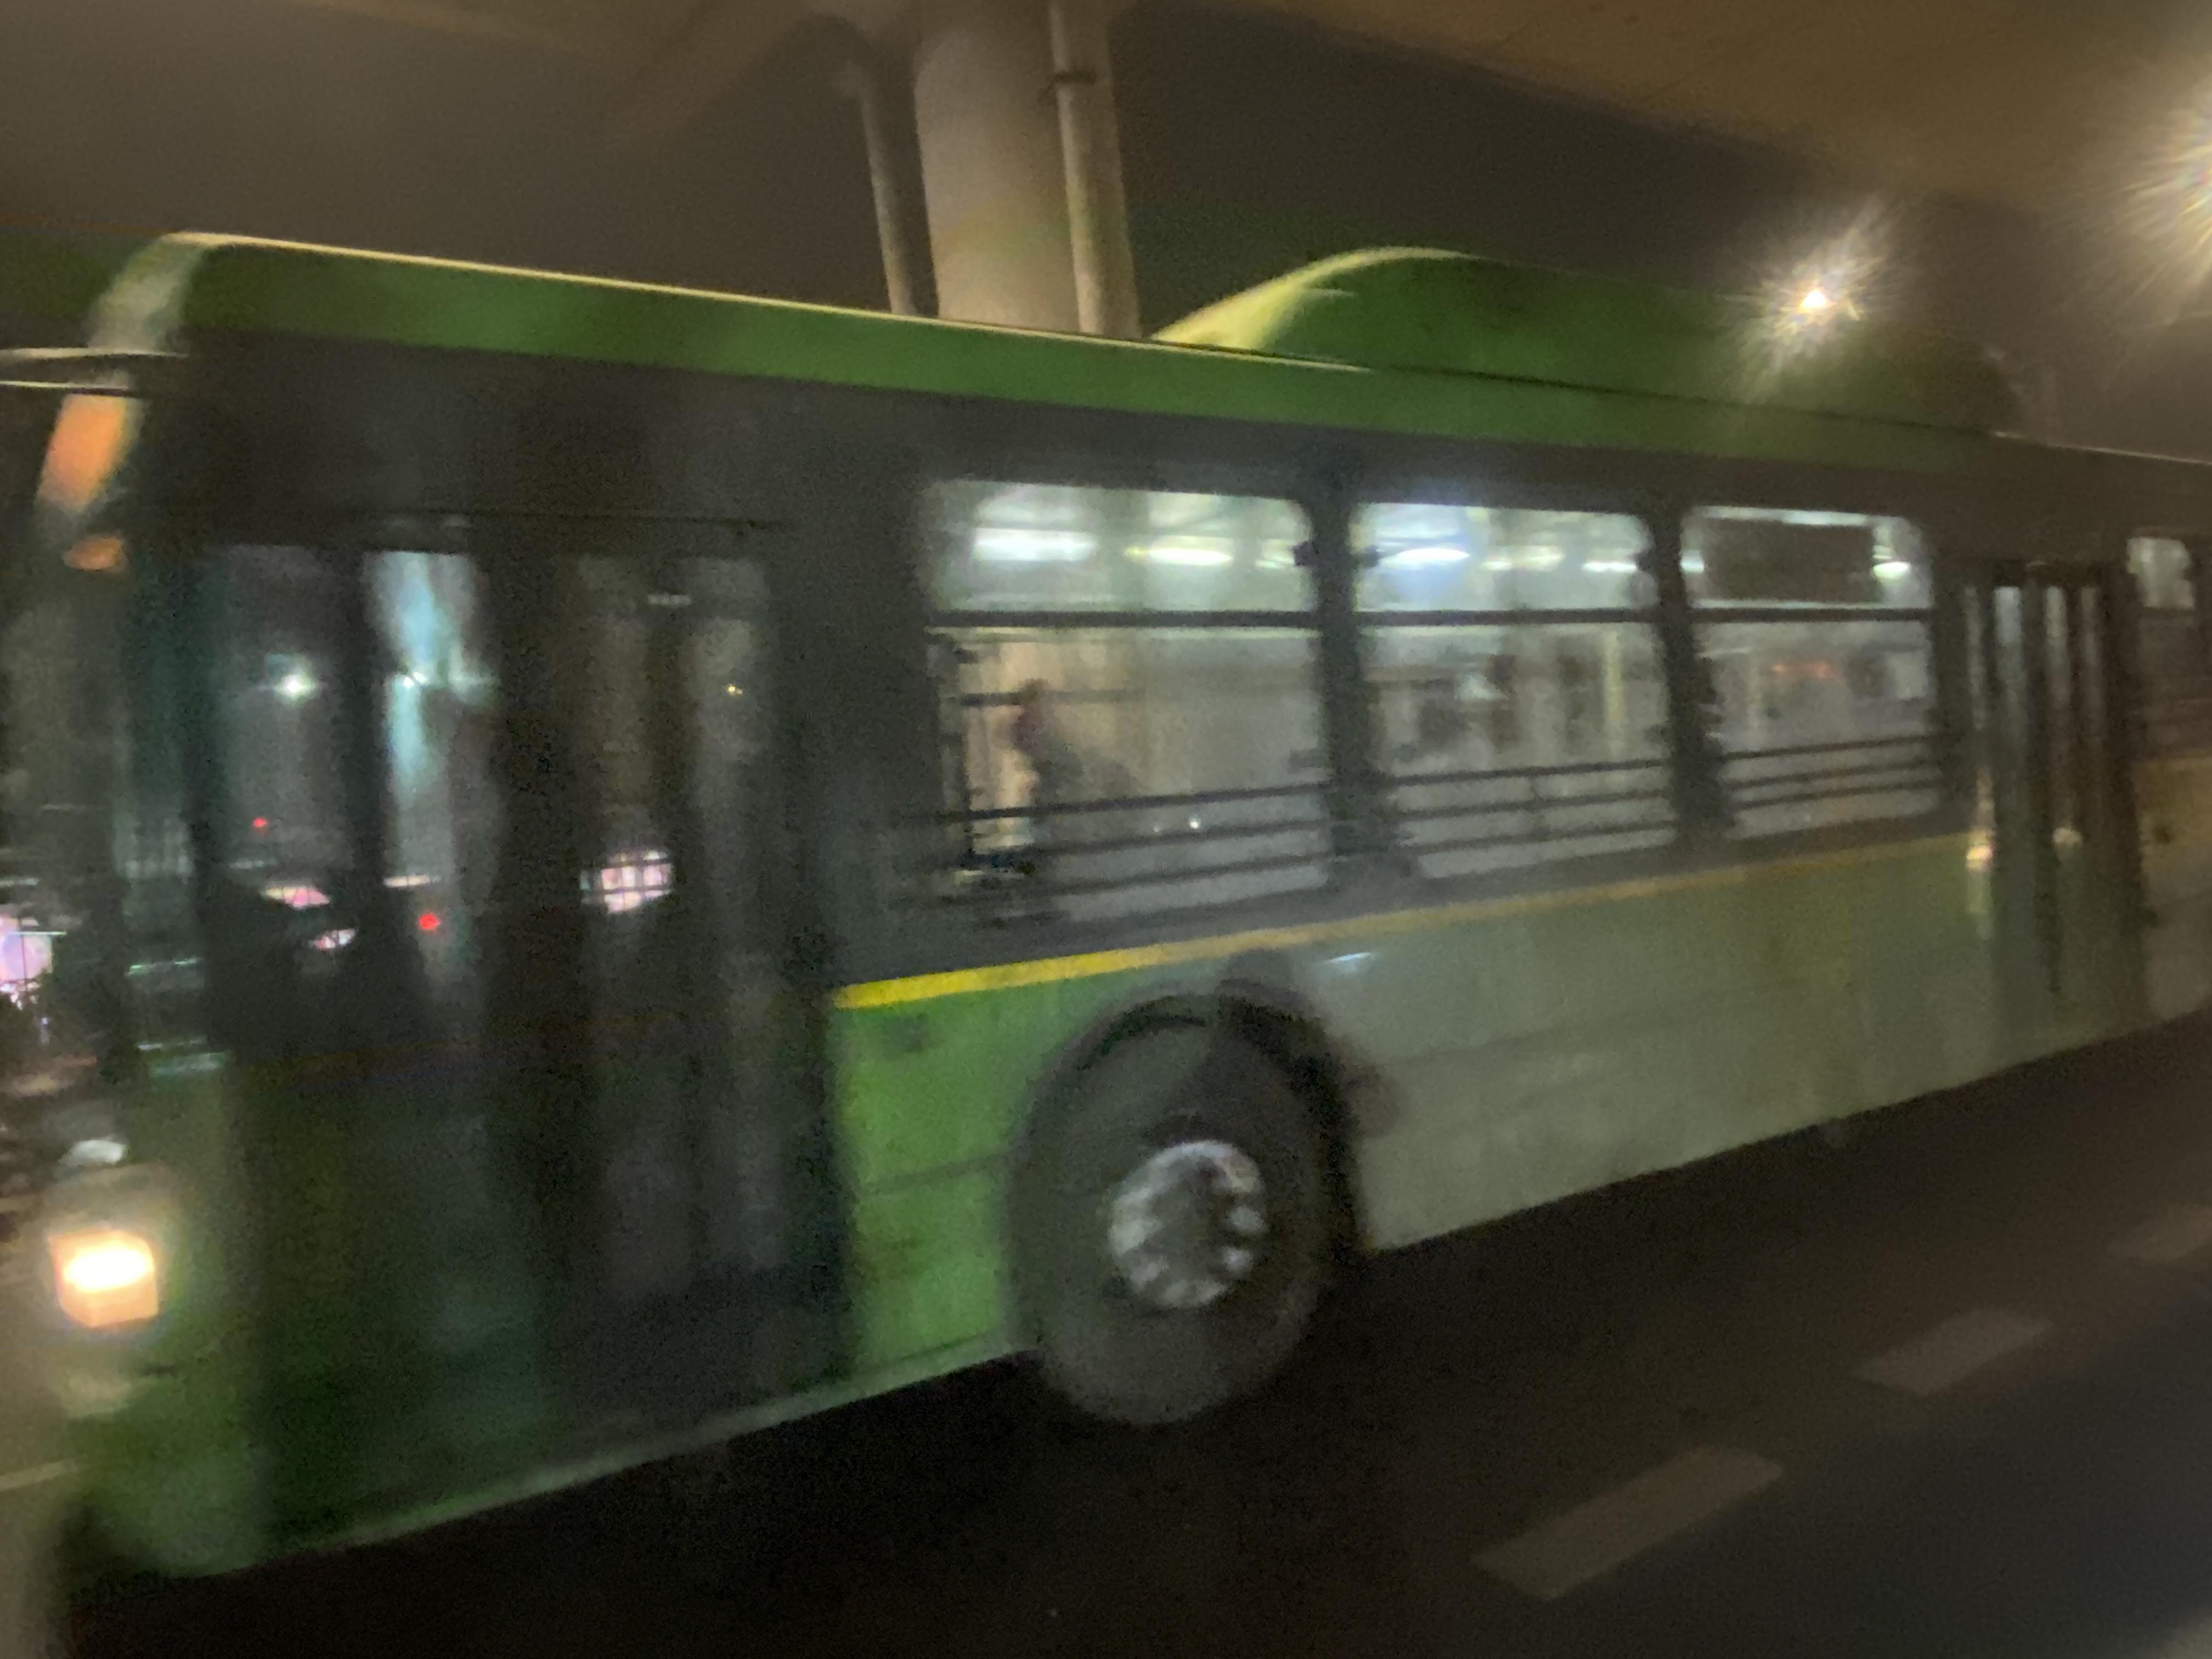Bus: (38, 253, 2212, 1509)
